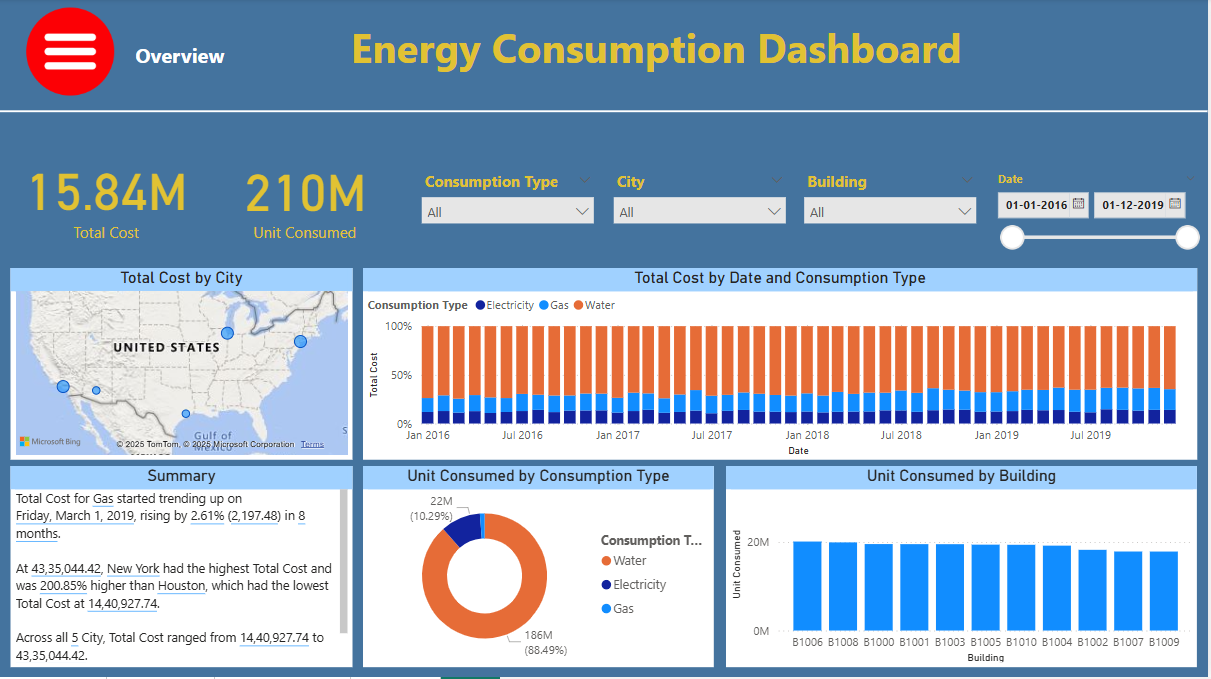

This screenshot's page, from the dashboard's own definition file:
{"tool":"powerbi","page":{"name":"Overview","canvas":[1280,720],"ordinal":0},"visuals":[{"type":"shape","box":[0,97,1280.4,46.1],"z":0},{"type":"image","box":[11.1,4.8,127.2,103.4],"z":1000},{"type":"textbox","box":[278.4,17.5,835.1,79.5],"z":2000},{"type":"textbox","box":[138.4,39.8,112.9,41.4],"z":3000},{"type":"card","fields":{"Values":["Building Master.Total Cost"]},"box":[11.1,155.9,202,106.6],"z":4000},{"type":"card","fields":{"Values":["Energy Consumptions.Unit Consumed"]},"box":[225.9,155.9,194.1,108.2],"z":5000},{"type":"slicer","fields":{"Values":["Energy Consumptions.Consumption Type"]},"box":[437.4,178.1,202,84.3],"z":6000},{"type":"slicer","fields":{"Values":["Building Master.City"]},"box":[641,178.1,202,84.3],"z":7000},{"type":"slicer","fields":{"Values":["Energy Consumptions.Building"]},"box":[843,178.1,202,84.3],"z":8000},{"type":"slicer","fields":{"Values":["Energy Consumptions.Date"]},"box":[1045,178.1,235.4,108.2],"z":9000},{"type":"hundredPercentStackedColumnChart","fields":{"Category":["Energy Consumptions.Date"],"Y":["Building Master.Total Cost"],"Series":["Energy Consumptions.Consumption Type"]},"box":[384.9,286.3,884.4,203.6],"z":10000},{"type":"map","fields":{"Category":["Building Master.City"],"Size":["Building Master.Total Cost"]},"box":[11.1,286.3,362.7,203.6],"z":11000},{"type":"textbox","title":"Summary","box":[11.1,496.3,362.7,213.1],"z":12000},{"type":"donutChart","fields":{"Category":["Energy Consumptions.Consumption Type"],"Y":["Energy Consumptions.Unit Consumed"]},"box":[384.9,496.3,372.2,213.1],"z":13000},{"type":"clusteredColumnChart","fields":{"Category":["Energy Consumptions.Building"],"Y":["Energy Consumptions.Unit Consumed"]},"box":[769.9,496.3,499.5,213.1],"z":14000},{"type":"actionButton","box":[24.1,8.6,100,98.3],"z":15000}]}

Visuals, with their boxes in screenshot pixels (x1, y1, x2, y2), scaled from the page's 1280x720 canvas onto the 1211x679 screenshot:
shape: 0 91 1210 135
image: 11 5 131 102
textbox: 263 17 1053 91
textbox: 131 38 238 77
card - Building Master.Total Cost: 11 147 202 248
card - Energy Consumptions.Unit Consumed: 214 147 397 249
slicer - Energy Consumptions.Consumption Type: 414 168 605 247
slicer - Building Master.City: 606 168 798 247
slicer - Energy Consumptions.Building: 798 168 989 247
slicer - Energy Consumptions.Date: 989 168 1210 270
hundredPercentStackedColumnChart - Energy Consumptions.Date x Building Master.Total Cost: 364 270 1201 462
map - Building Master.City x Building Master.Total Cost: 11 270 354 462
"Summary" textbox: 11 468 354 669
donutChart - Energy Consumptions.Consumption Type x Energy Consumptions.Unit Consumed: 364 468 716 669
clusteredColumnChart - Energy Consumptions.Building x Energy Consumptions.Unit Consumed: 728 468 1201 669
actionButton: 23 8 117 101
